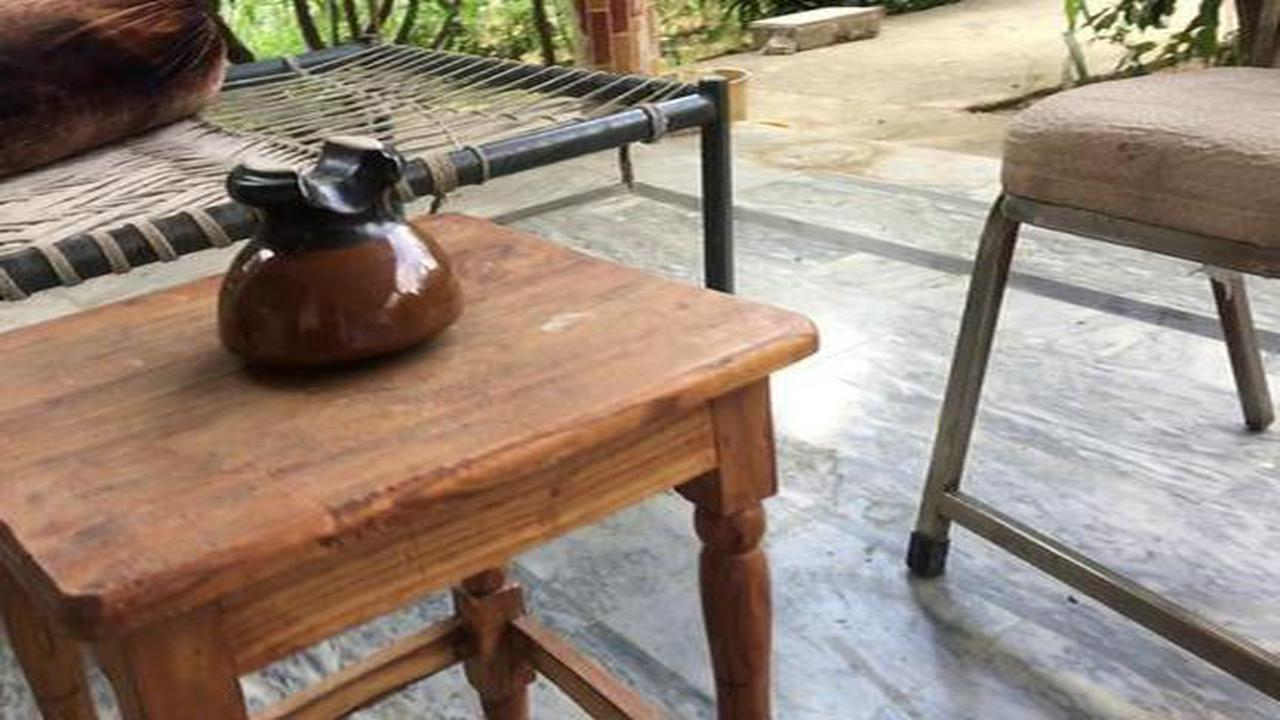insulator_pin: (197, 125, 468, 380)
